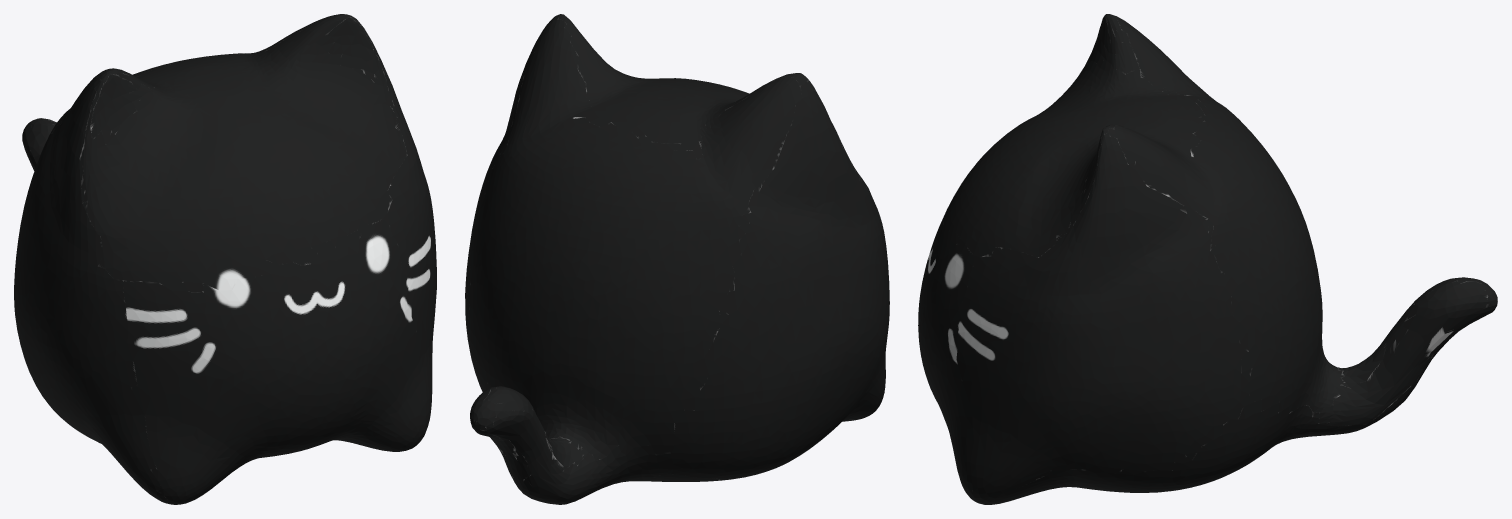
File: kiki (3).fbx
3 views of the same model, side by side, from view 1: azimuth 30°, elevation 25°; view 2: azimuth 150°, elevation 25°; view 3: azimuth 270°, elevation 25° (orthographic). The views are drawn at different scales.
Visible parts, largest first — view 1: Sphere; view 2: Sphere; view 3: Sphere.
Part boxes in pixels (x1,y1,x2,y2): Sphere: (14,14,436,504); Sphere: (465,14,889,504); Sphere: (918,14,1497,504).
Bounding box in the file's own units: 110 × 110 × 153.
Materials: 1 (1 with a texture image).
